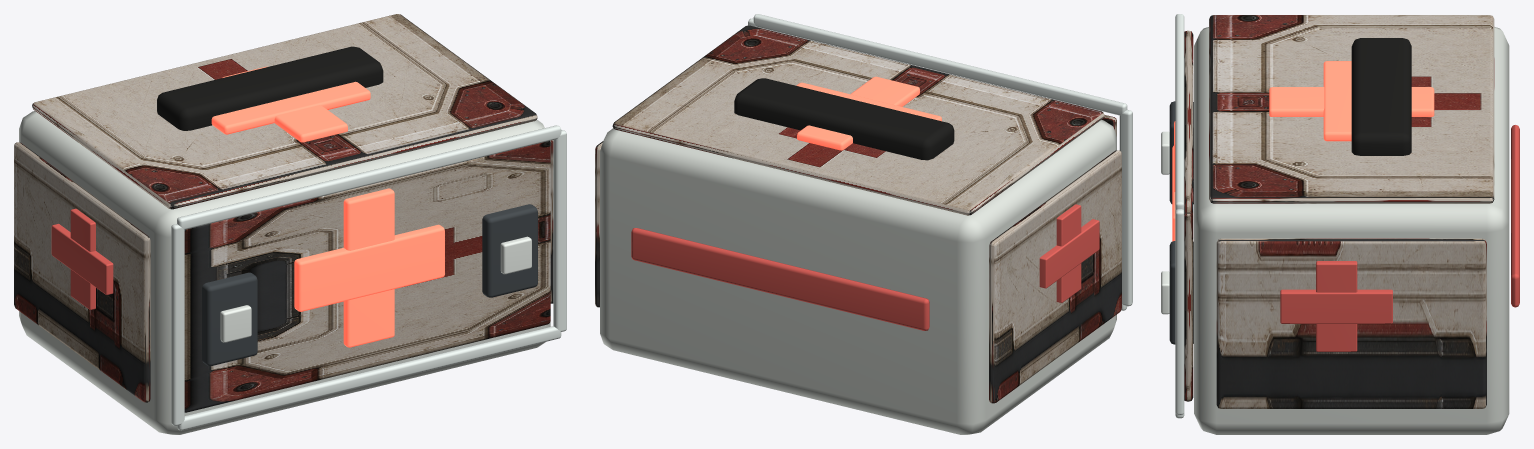
The model's file is hp_pickup_medkit_white_red.glb.
3 views of the same model, side by side, from view 1: azimuth 30°, elevation 25°; view 2: azimuth 150°, elevation 25°; view 3: azimuth 270°, elevation 25° (orthographic). The views are drawn at different scales.
Parts seen in each view (by area): view 1: pickup_medkit_white_red_front_image2_face, pickup_medkit_white_red_top_lid_image2_face, pickup_medkit_white_red_hard_white_case, pickup_medkit_white_red_left_image2_side, pickup_medkit_white_red_rubber_handle, pickup_medkit_white_red_red_cross_horizontal, pickup_medkit_white_red_front_case_bezel_trim_top, pickup_medkit_white_red_front_case_bezel_trim_bottom, pickup_medkit_white_red_red_cross_vertical, pickup_medkit_white_red_dark_latch_l, pickup_medkit_white_red_dark_latch_r, pickup_medkit_white_red_top_red_cross_horizontal (+8 smaller); view 2: pickup_medkit_white_red_hard_white_case, pickup_medkit_white_red_top_lid_image2_face, pickup_medkit_white_red_left_image2_side, pickup_medkit_white_red_medical_side_band_art_color_block, pickup_medkit_white_red_rubber_handle, pickup_medkit_white_red_front_case_bezel_trim_top, pickup_medkit_white_red_front_case_bezel_trim_left, pickup_medkit_white_red_top_red_cross_vertical, pickup_medkit_white_red_left_side_red_cross_h, pickup_medkit_white_red_left_side_red_cross_v, pickup_medkit_white_red_right_image2_side, pickup_medkit_white_red_top_red_cross_horizontal; view 3: pickup_medkit_white_red_top_lid_image2_face, pickup_medkit_white_red_right_image2_side, pickup_medkit_white_red_hard_white_case, pickup_medkit_white_red_rubber_handle, pickup_medkit_white_red_right_side_red_cross_h, pickup_medkit_white_red_front_image2_face, pickup_medkit_white_red_right_side_red_cross_v, pickup_medkit_white_red_top_red_cross_vertical, pickup_medkit_white_red_top_red_cross_horizontal, pickup_medkit_white_red_front_case_bezel_trim_right, pickup_medkit_white_red_front_case_bezel_trim_top, pickup_medkit_white_red_medical_side_band_art_color_block (+4 smaller).
Part boxes in pixels (x1,y1,x2,y2): pickup_medkit_white_red_front_image2_face: [184, 141, 550, 412]; pickup_medkit_white_red_top_lid_image2_face: [32, 14, 537, 209]; pickup_medkit_white_red_hard_white_case: [19, 111, 550, 434]; pickup_medkit_white_red_left_image2_side: [14, 142, 150, 402]; pickup_medkit_white_red_rubber_handle: [157, 46, 383, 130]; pickup_medkit_white_red_red_cross_horizontal: [294, 224, 444, 311]; pickup_medkit_white_red_front_case_bezel_trim_top: [177, 125, 561, 229]; pickup_medkit_white_red_front_case_bezel_trim_bottom: [177, 326, 561, 430]; pickup_medkit_white_red_red_cross_vertical: [343, 188, 394, 347]; pickup_medkit_white_red_dark_latch_l: [202, 272, 257, 365]; pickup_medkit_white_red_dark_latch_r: [482, 204, 537, 297]; pickup_medkit_white_red_top_red_cross_horizontal: [211, 81, 370, 134]; pickup_medkit_white_red_hard_white_case: [600, 120, 1116, 434]; pickup_medkit_white_red_top_lid_image2_face: [612, 25, 1104, 215]; pickup_medkit_white_red_left_image2_side: [989, 150, 1121, 403]; pickup_medkit_white_red_medical_side_band_art_color_block: [631, 228, 929, 330]; pickup_medkit_white_red_rubber_handle: [734, 78, 954, 160]; pickup_medkit_white_red_front_case_bezel_trim_top: [753, 14, 1127, 115]; pickup_medkit_white_red_front_case_bezel_trim_left: [1119, 110, 1132, 306]; pickup_medkit_white_red_top_red_cross_vertical: [797, 76, 919, 150]; pickup_medkit_white_red_left_side_red_cross_h: [1039, 219, 1099, 288]; pickup_medkit_white_red_left_side_red_cross_v: [1056, 204, 1081, 302]; pickup_medkit_white_red_right_image2_side: [595, 141, 603, 307]; pickup_medkit_white_red_top_red_cross_horizontal: [796, 82, 941, 121]; pickup_medkit_white_red_top_lid_image2_face: [1209, 15, 1494, 203]; pickup_medkit_white_red_right_image2_side: [1216, 238, 1486, 408]; pickup_medkit_white_red_hard_white_case: [1194, 27, 1509, 434]; pickup_medkit_white_red_rubber_handle: [1351, 38, 1411, 155]; pickup_medkit_white_red_right_side_red_cross_h: [1280, 289, 1392, 323]; pickup_medkit_white_red_front_image2_face: [1184, 30, 1193, 401]; pickup_medkit_white_red_right_side_red_cross_v: [1316, 261, 1357, 351]; pickup_medkit_white_red_top_red_cross_vertical: [1269, 87, 1434, 116]; pickup_medkit_white_red_top_red_cross_horizontal: [1323, 61, 1351, 141]; pickup_medkit_white_red_front_case_bezel_trim_right: [1175, 209, 1184, 414]; pickup_medkit_white_red_front_case_bezel_trim_top: [1175, 14, 1184, 210]; pickup_medkit_white_red_medical_side_band_art_color_block: [1511, 125, 1519, 307].
Bounding box in the file's own units: 0.67 × 0.3825 × 0.478.
8 materials, 1 textured.
